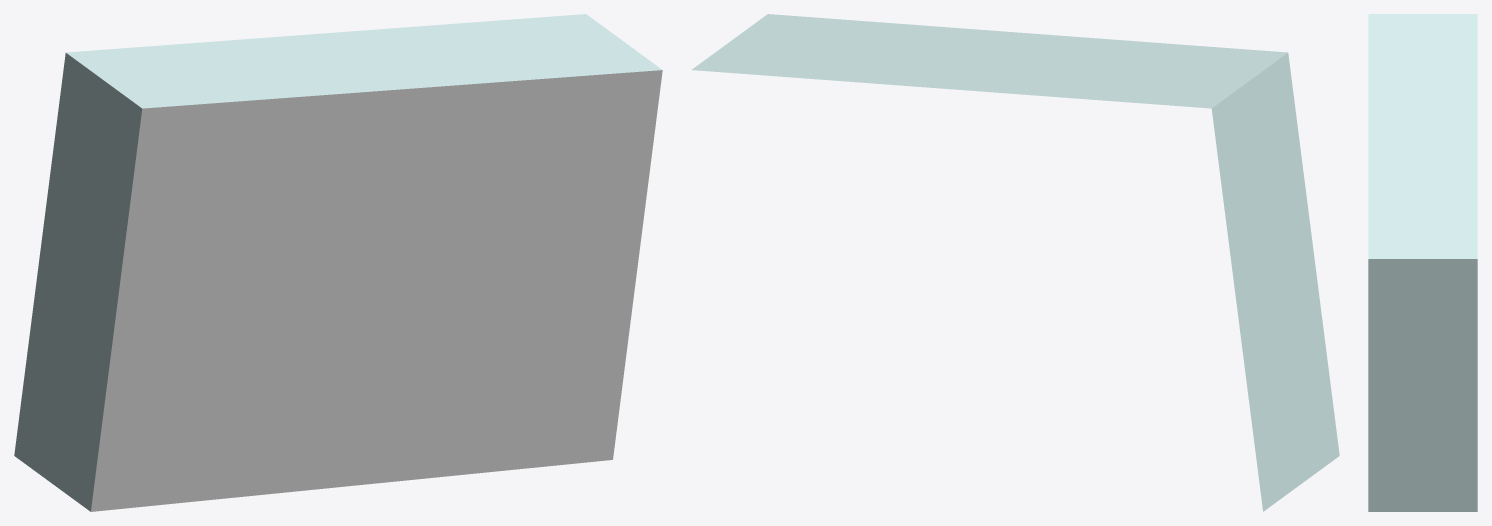
3 renders of one model, left to right at view 1: azimuth 30°, elevation 25°; view 2: azimuth 150°, elevation 25°; view 3: azimuth 270°, elevation 25°, orthographic. The views are drawn at different scales.
Visible parts, largest first — view 1: 0_2_3_2_3_0; view 2: 0_2_3_2_3_0; view 3: 0_2_3_2_3_0.
Boxes of the visible parts, box(x1,y1,x2,y2) form: 0_2_3_2_3_0: box(14, 14, 662, 511); 0_2_3_2_3_0: box(692, 14, 1339, 511); 0_2_3_2_3_0: box(1368, 14, 1477, 511).
Bounding box in the file's own units: 12.93 × 10.07 × 3.
